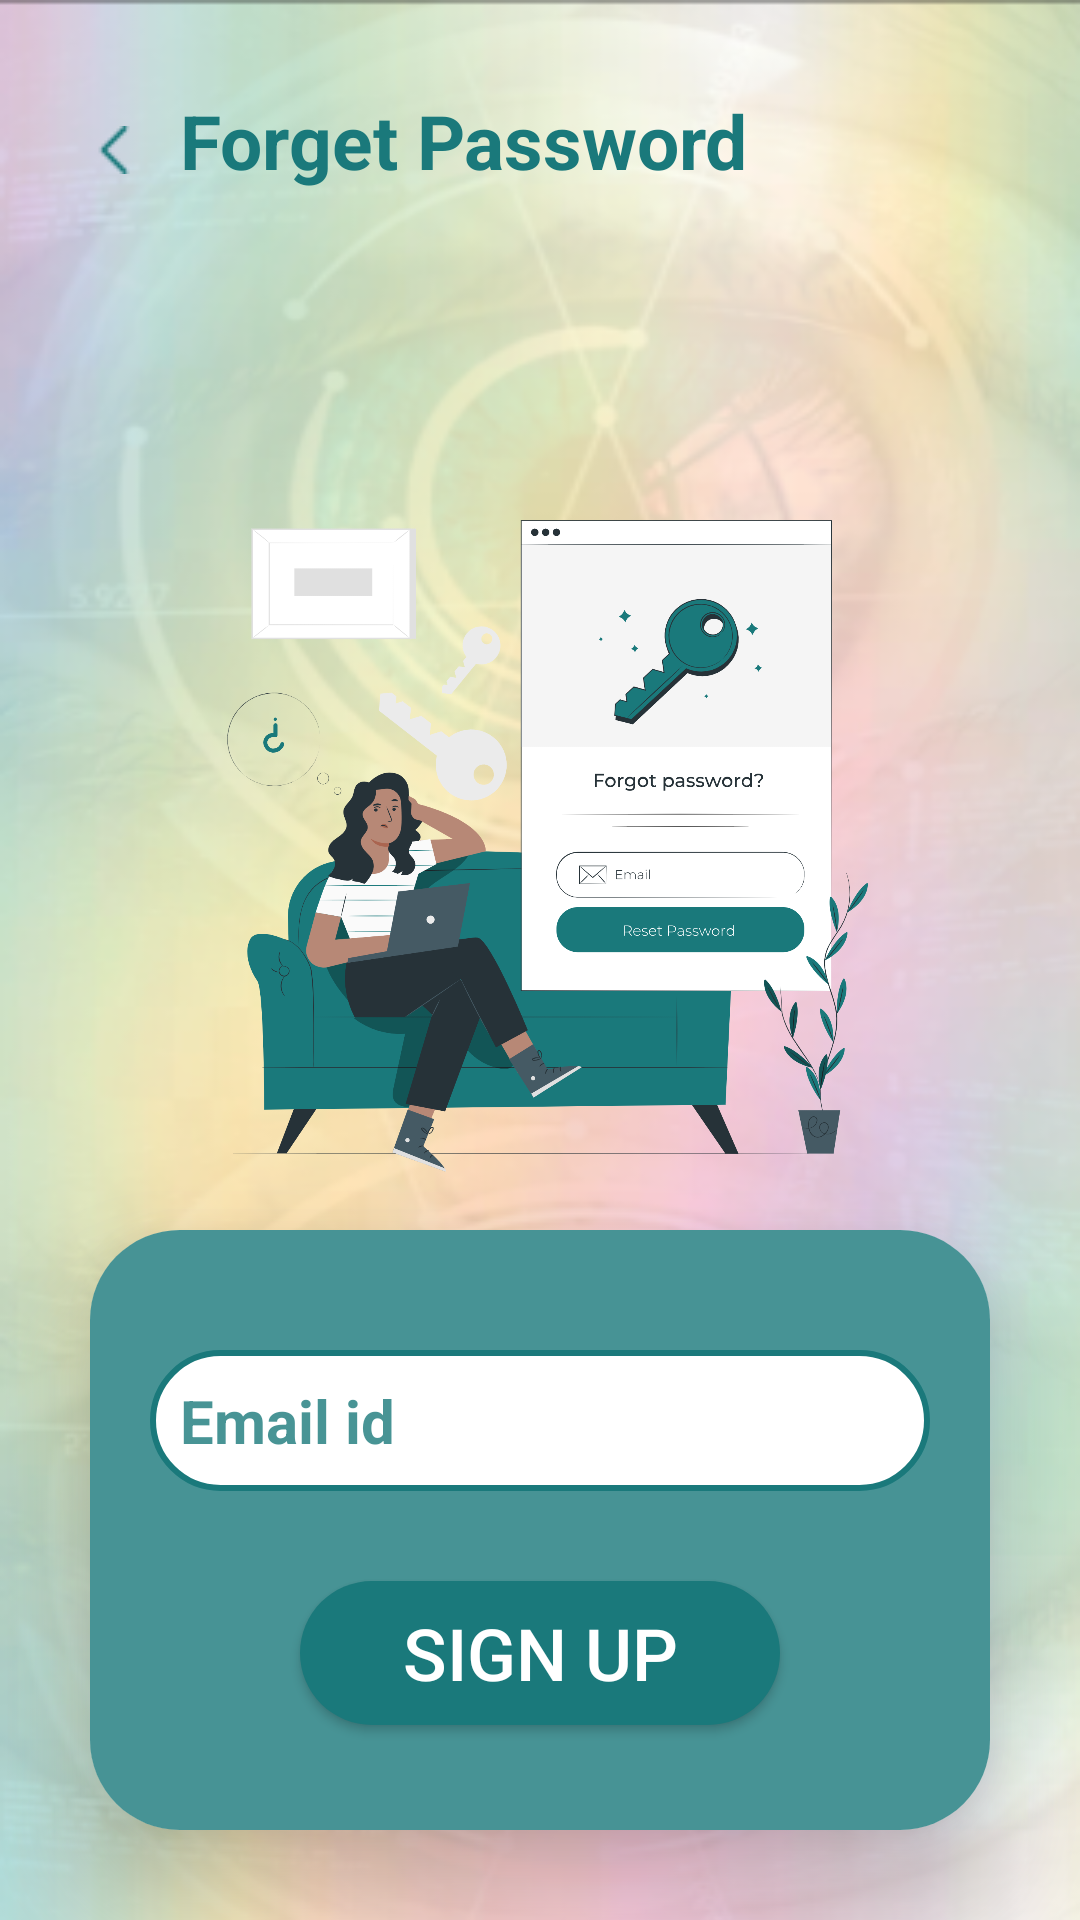

Named icons in this screenshot (1080*1920) and their bounding boxes, (x1,y1,x2,y2):
backblueicon: (100,126,129,174)
